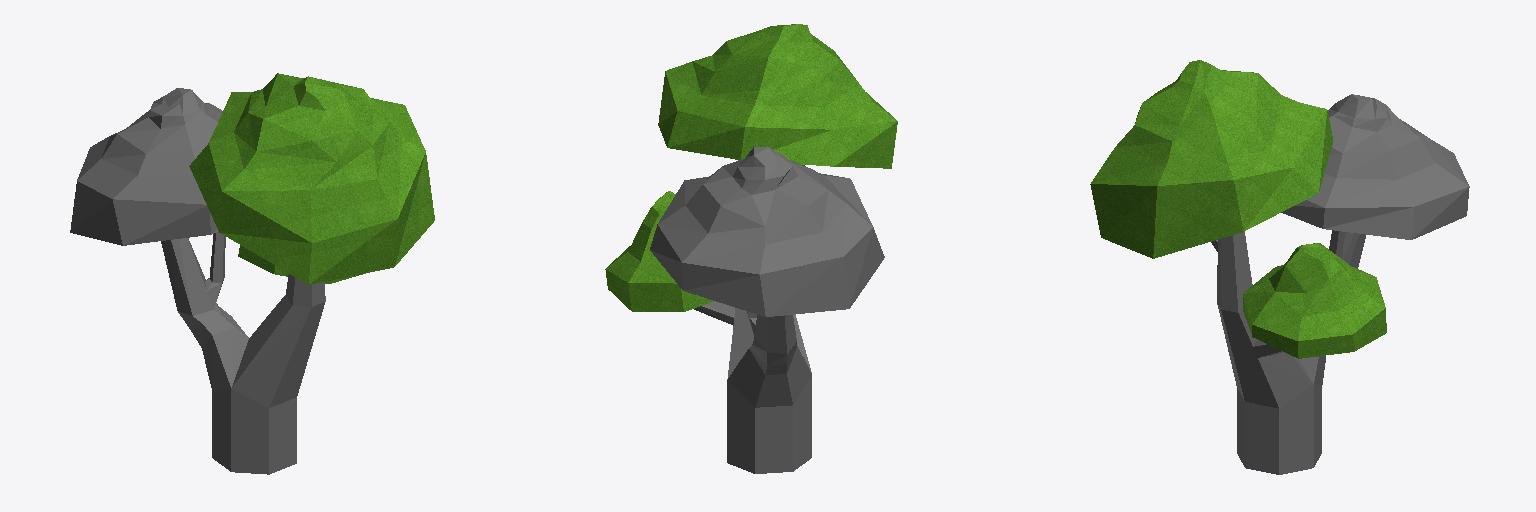
The picture shows the model from 3 angles: view 1: azimuth 30°, elevation 25°; view 2: azimuth 150°, elevation 25°; view 3: azimuth 270°, elevation 25°; orthographic projection.
Visible parts, largest first — view 1: Cylinder002_Untitled.002, Cylinder001_Untitled, Cylinder003_Untitled.001, Cylinder004_Untitled.003; view 2: Cylinder003_Untitled.001, Cylinder002_Untitled.002, Cylinder001_Untitled, Cylinder004_Untitled.003; view 3: Cylinder002_Untitled.002, Cylinder003_Untitled.001, Cylinder001_Untitled, Cylinder004_Untitled.003.
Part boxes in pixels (x1,y1,x2,y2): Cylinder002_Untitled.002: (189,73,434,284); Cylinder001_Untitled: (161,231,325,474); Cylinder003_Untitled.001: (70,88,222,245); Cylinder004_Untitled.003: (238,245,365,283); Cylinder003_Untitled.001: (650,147,884,316); Cylinder002_Untitled.002: (658,24,897,168); Cylinder001_Untitled: (694,165,811,473); Cylinder004_Untitled.003: (605,191,713,311); Cylinder002_Untitled.002: (1090,60,1332,258); Cylinder003_Untitled.001: (1281,94,1469,239); Cylinder001_Untitled: (1211,230,1365,474); Cylinder004_Untitled.003: (1243,243,1386,358).
Size of the model in its own units: 2.67 by 3.83 by 3.28.
4 materials, 2 textured.